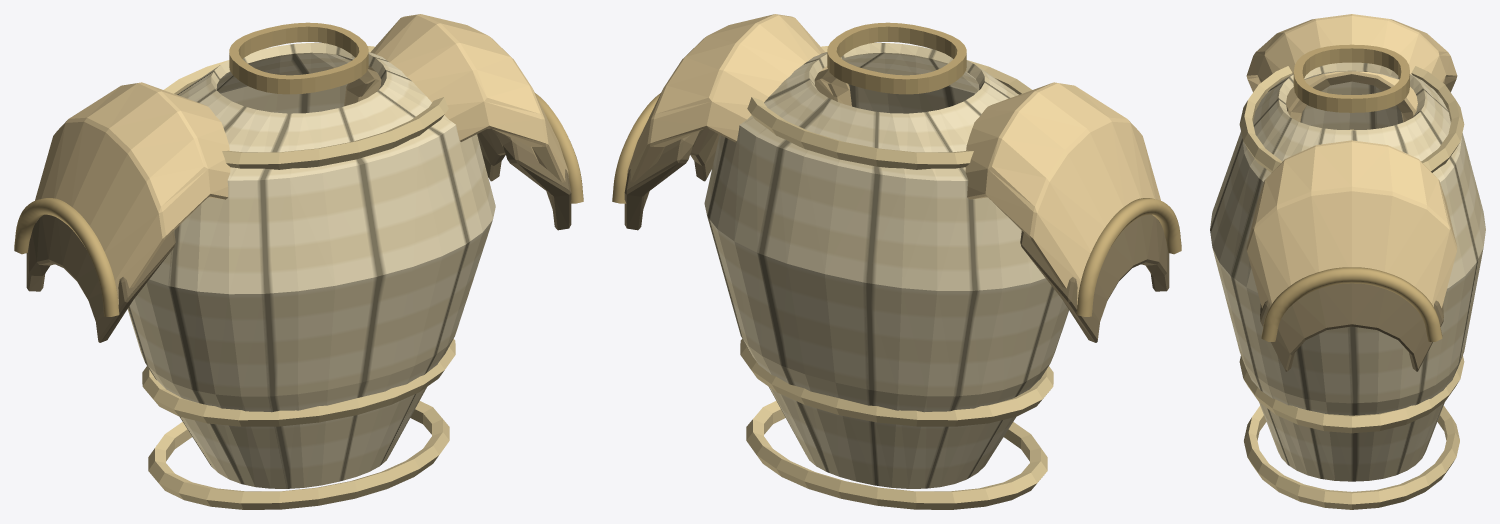
Rendered from cocoon_husk.obj.
The picture shows the model from 3 angles, left to right: view 1: azimuth 30°, elevation 25°; view 2: azimuth 150°, elevation 25°; view 3: azimuth 270°, elevation 25°; orthographic projection. The views are drawn at different scales.
Visible parts, largest first — view 1: A_Torso.001_cocoon_husk_body, K_LateralCarapace.001_cocoon_husk_shoulder_shell, K_OuterHuskLobe.001_cocoon_husk_shoulder_overlap, H_Rib4.001_cocoon_husk_rib, B_NeckTrim.001_cocoon_husk_trim, H_Rib3.001_cocoon_husk_rib, H_Rib0.001_cocoon_husk_rib, K_CarapaceRidge.001_cocoon_husk_trim; view 2: A_Torso.001_cocoon_husk_body, K_LateralCarapace.001_cocoon_husk_shoulder_shell, K_OuterHuskLobe.001_cocoon_husk_shoulder_overlap, H_Rib4.001_cocoon_husk_rib, B_NeckTrim.001_cocoon_husk_trim, H_Rib3.001_cocoon_husk_rib, H_Rib0.001_cocoon_husk_rib, K_CarapaceRidge.001_cocoon_husk_trim; view 3: A_Torso.001_cocoon_husk_body, K_LateralCarapace.001_cocoon_husk_shoulder_shell, K_OuterHuskLobe.001_cocoon_husk_shoulder_overlap, H_Rib4.001_cocoon_husk_rib, B_NeckTrim.001_cocoon_husk_trim, K_CarapaceRidge.001_cocoon_husk_trim, H_Rib3.001_cocoon_husk_rib, H_Rib0.001_cocoon_husk_rib.
Part boxes in pixels (x1,y1,x2,y2): A_Torso.001_cocoon_husk_body: [127, 43, 495, 488]; K_LateralCarapace.001_cocoon_husk_shoulder_shell: [35, 14, 568, 304]; K_OuterHuskLobe.001_cocoon_husk_shoulder_overlap: [26, 128, 571, 342]; H_Rib4.001_cocoon_husk_rib: [148, 401, 449, 509]; B_NeckTrim.001_cocoon_husk_trim: [229, 22, 368, 94]; H_Rib3.001_cocoon_husk_rib: [142, 339, 455, 426]; H_Rib0.001_cocoon_husk_rib: [164, 46, 448, 169]; K_CarapaceRidge.001_cocoon_husk_trim: [14, 93, 583, 316]; A_Torso.001_cocoon_husk_body: [704, 43, 1068, 488]; K_LateralCarapace.001_cocoon_husk_shoulder_shell: [627, 14, 1160, 304]; K_OuterHuskLobe.001_cocoon_husk_shoulder_overlap: [624, 128, 1169, 342]; H_Rib4.001_cocoon_husk_rib: [746, 401, 1047, 509]; B_NeckTrim.001_cocoon_husk_trim: [827, 22, 966, 94]; H_Rib3.001_cocoon_husk_rib: [740, 339, 1053, 426]; H_Rib0.001_cocoon_husk_rib: [747, 46, 1031, 169]; K_CarapaceRidge.001_cocoon_husk_trim: [612, 93, 1181, 316]; A_Torso.001_cocoon_husk_body: [1210, 62, 1485, 481]; K_LateralCarapace.001_cocoon_husk_shoulder_shell: [1246, 14, 1457, 308]; K_OuterHuskLobe.001_cocoon_husk_shoulder_overlap: [1260, 283, 1443, 371]; H_Rib4.001_cocoon_husk_rib: [1244, 405, 1459, 509]; B_NeckTrim.001_cocoon_husk_trim: [1293, 44, 1409, 112]; K_CarapaceRidge.001_cocoon_husk_trim: [1261, 267, 1442, 341]; H_Rib3.001_cocoon_husk_rib: [1239, 356, 1464, 433]; H_Rib0.001_cocoon_husk_rib: [1239, 66, 1464, 172].
Bounding box in the file's own units: 2.65 × 2.15 × 1.42.
